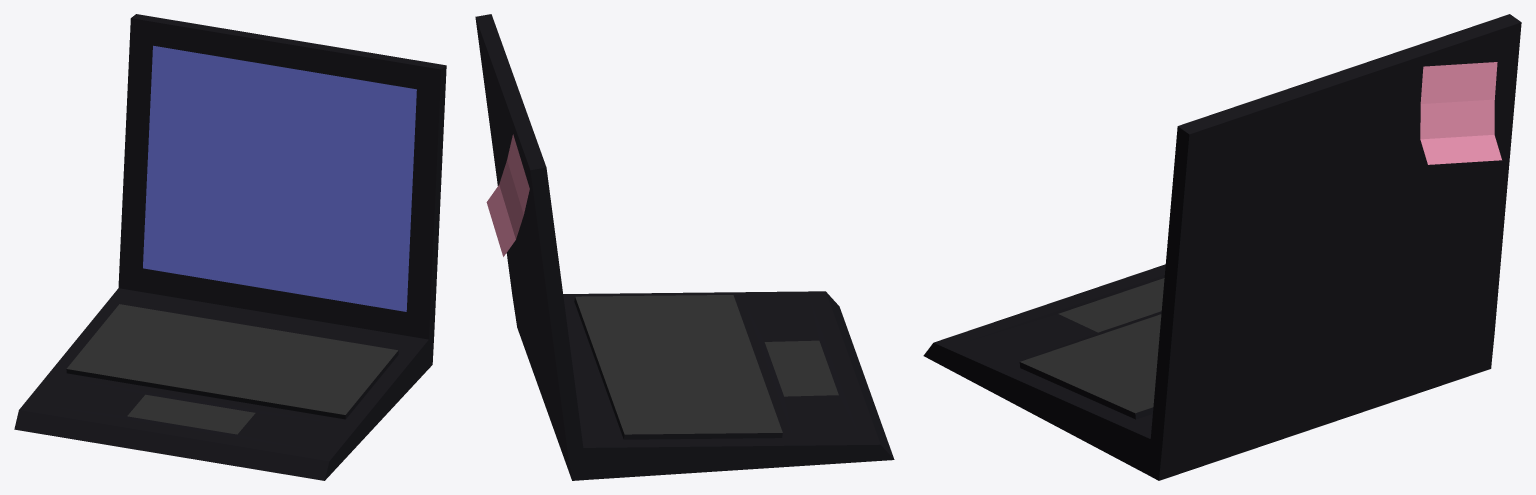
File: notebook.fbx
3 renders of one model, left to right at view 1: azimuth 30°, elevation 25°; view 2: azimuth 150°, elevation 25°; view 3: azimuth 270°, elevation 25°, orthographic. The views are drawn at different scales.
Parts seen in each view (by area): view 1: notebook; view 2: notebook; view 3: notebook.
Boxes of the visible parts, <box> form: notebook: <box>14,14,446,480</box>; notebook: <box>475,14,894,480</box>; notebook: <box>923,14,1521,480</box>.
Size of the model in its own units: 149 by 100 by 149.
